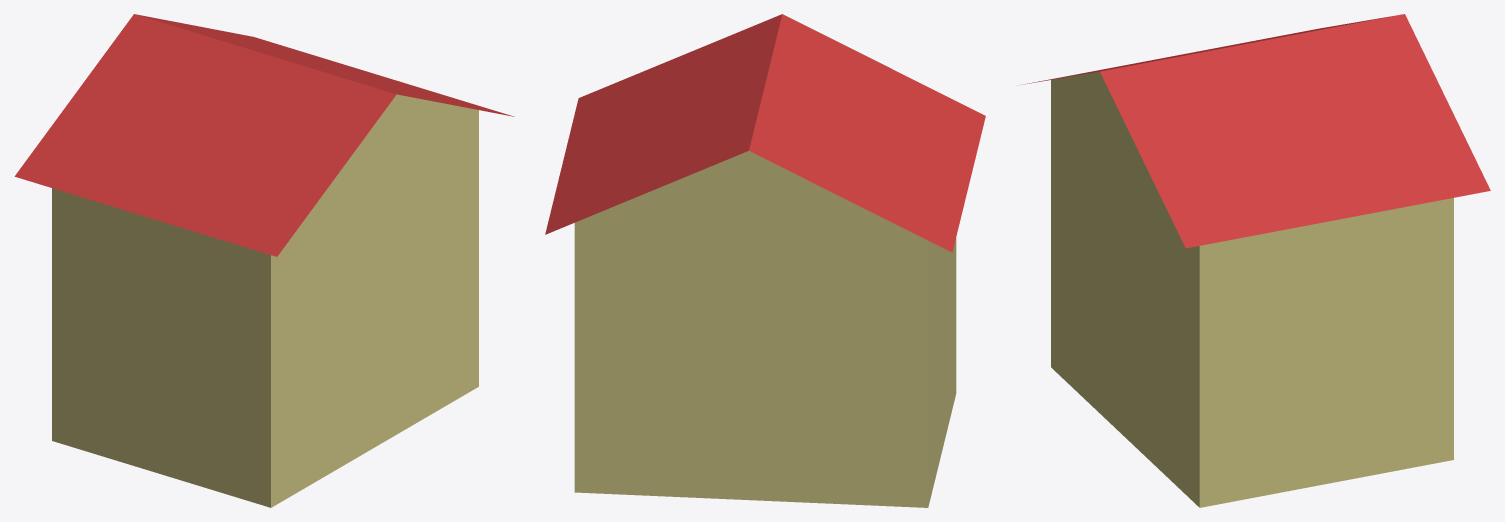
3 renders of one model, left to right at view 1: azimuth 30°, elevation 25°; view 2: azimuth 150°, elevation 25°; view 3: azimuth 270°, elevation 25°, orthographic. The views are drawn at different scales.
Size of the model in its own units: 14.03 by 12.85 by 11.02.
